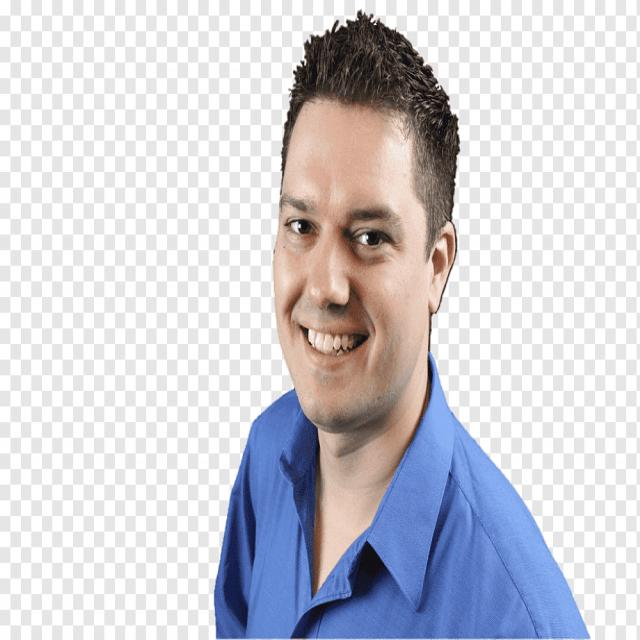nothing: (270, 2, 477, 153)
